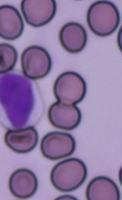L: (0, 68, 43, 130)
